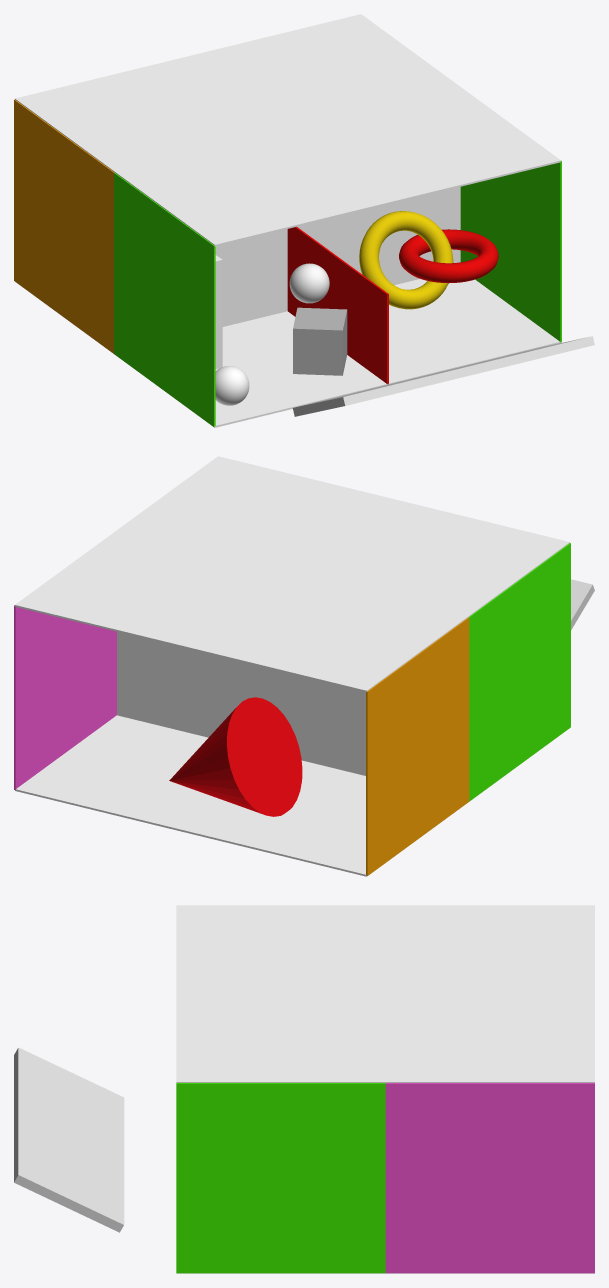
Rendered from cornell4.gltf.
3 renders of one model, top to bottom at view 1: azimuth 30°, elevation 25°; view 2: azimuth 150°, elevation 25°; view 3: azimuth 270°, elevation 25°, orthographic. The views are drawn at different scales.
Parts seen in each view (by area): view 1: cube_instance_3.001, cube_instance_3, cube_instance_2.001, cube_instance_5.002, cube_instance_5.001, cube_instance_5.003, cube_instance, cube_instance_6, Torus.002, cube_instance_14, Cube, Torus.001 (+3 smaller); view 2: cube_instance_3, cube_instance_3.001, cube_instance_2, cube_instance_5.001, cube_instance_5.002, cube_instance, cube_instance_5, Cone, Cube; view 3: cube_instance_5.003, cube_instance_5, cube_instance_3, cube_instance_3.001, Cube.
Boxes of the visible parts, x1,y1,x2,y2 form: cube_instance_3.001: (115, 87, 560, 246); cube_instance_3: (15, 14, 460, 172); cube_instance_2.001: (214, 279, 560, 427); cube_instance_5.002: (114, 172, 215, 426); cube_instance_5.001: (14, 99, 114, 353); cube_instance_5.003: (460, 160, 561, 342); cube_instance: (215, 187, 460, 326); cube_instance_6: (287, 226, 388, 384); Torus.002: (359, 211, 453, 309); cube_instance_14: (293, 307, 347, 375); Cube: (292, 336, 594, 416); Torus.001: (399, 229, 498, 283); cube_instance_3: (15, 530, 468, 692); cube_instance_3.001: (117, 456, 569, 616); cube_instance_2: (15, 715, 367, 876); cube_instance_5.001: (366, 617, 469, 875); cube_instance_5.002: (469, 543, 570, 801); cube_instance: (117, 631, 365, 775); cube_instance_5: (14, 605, 116, 789); Cone: (169, 697, 302, 816); Cube: (571, 579, 594, 630); cube_instance_5.003: (176, 1083, 385, 1273); cube_instance_5: (385, 1083, 594, 1273); cube_instance_3: (385, 905, 594, 1082); cube_instance_3.001: (176, 905, 385, 1082); Cube: (14, 1047, 124, 1232).
Bounding box in the file's own units: 20.1 × 10.1 × 27.75.
